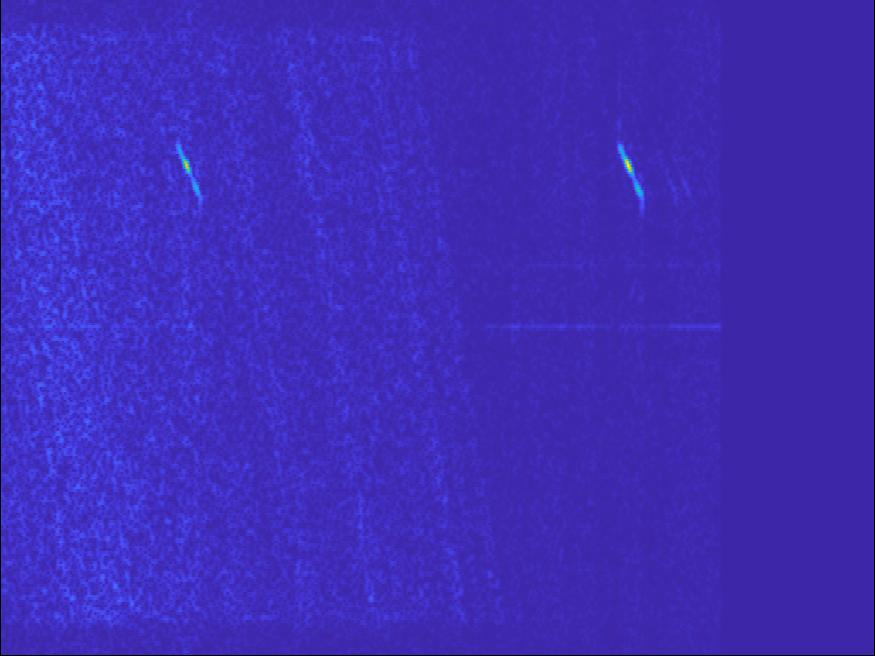Interference: (59, 121, 248, 258), (444, 301, 632, 360), (228, 307, 374, 348), (652, 225, 744, 262)
